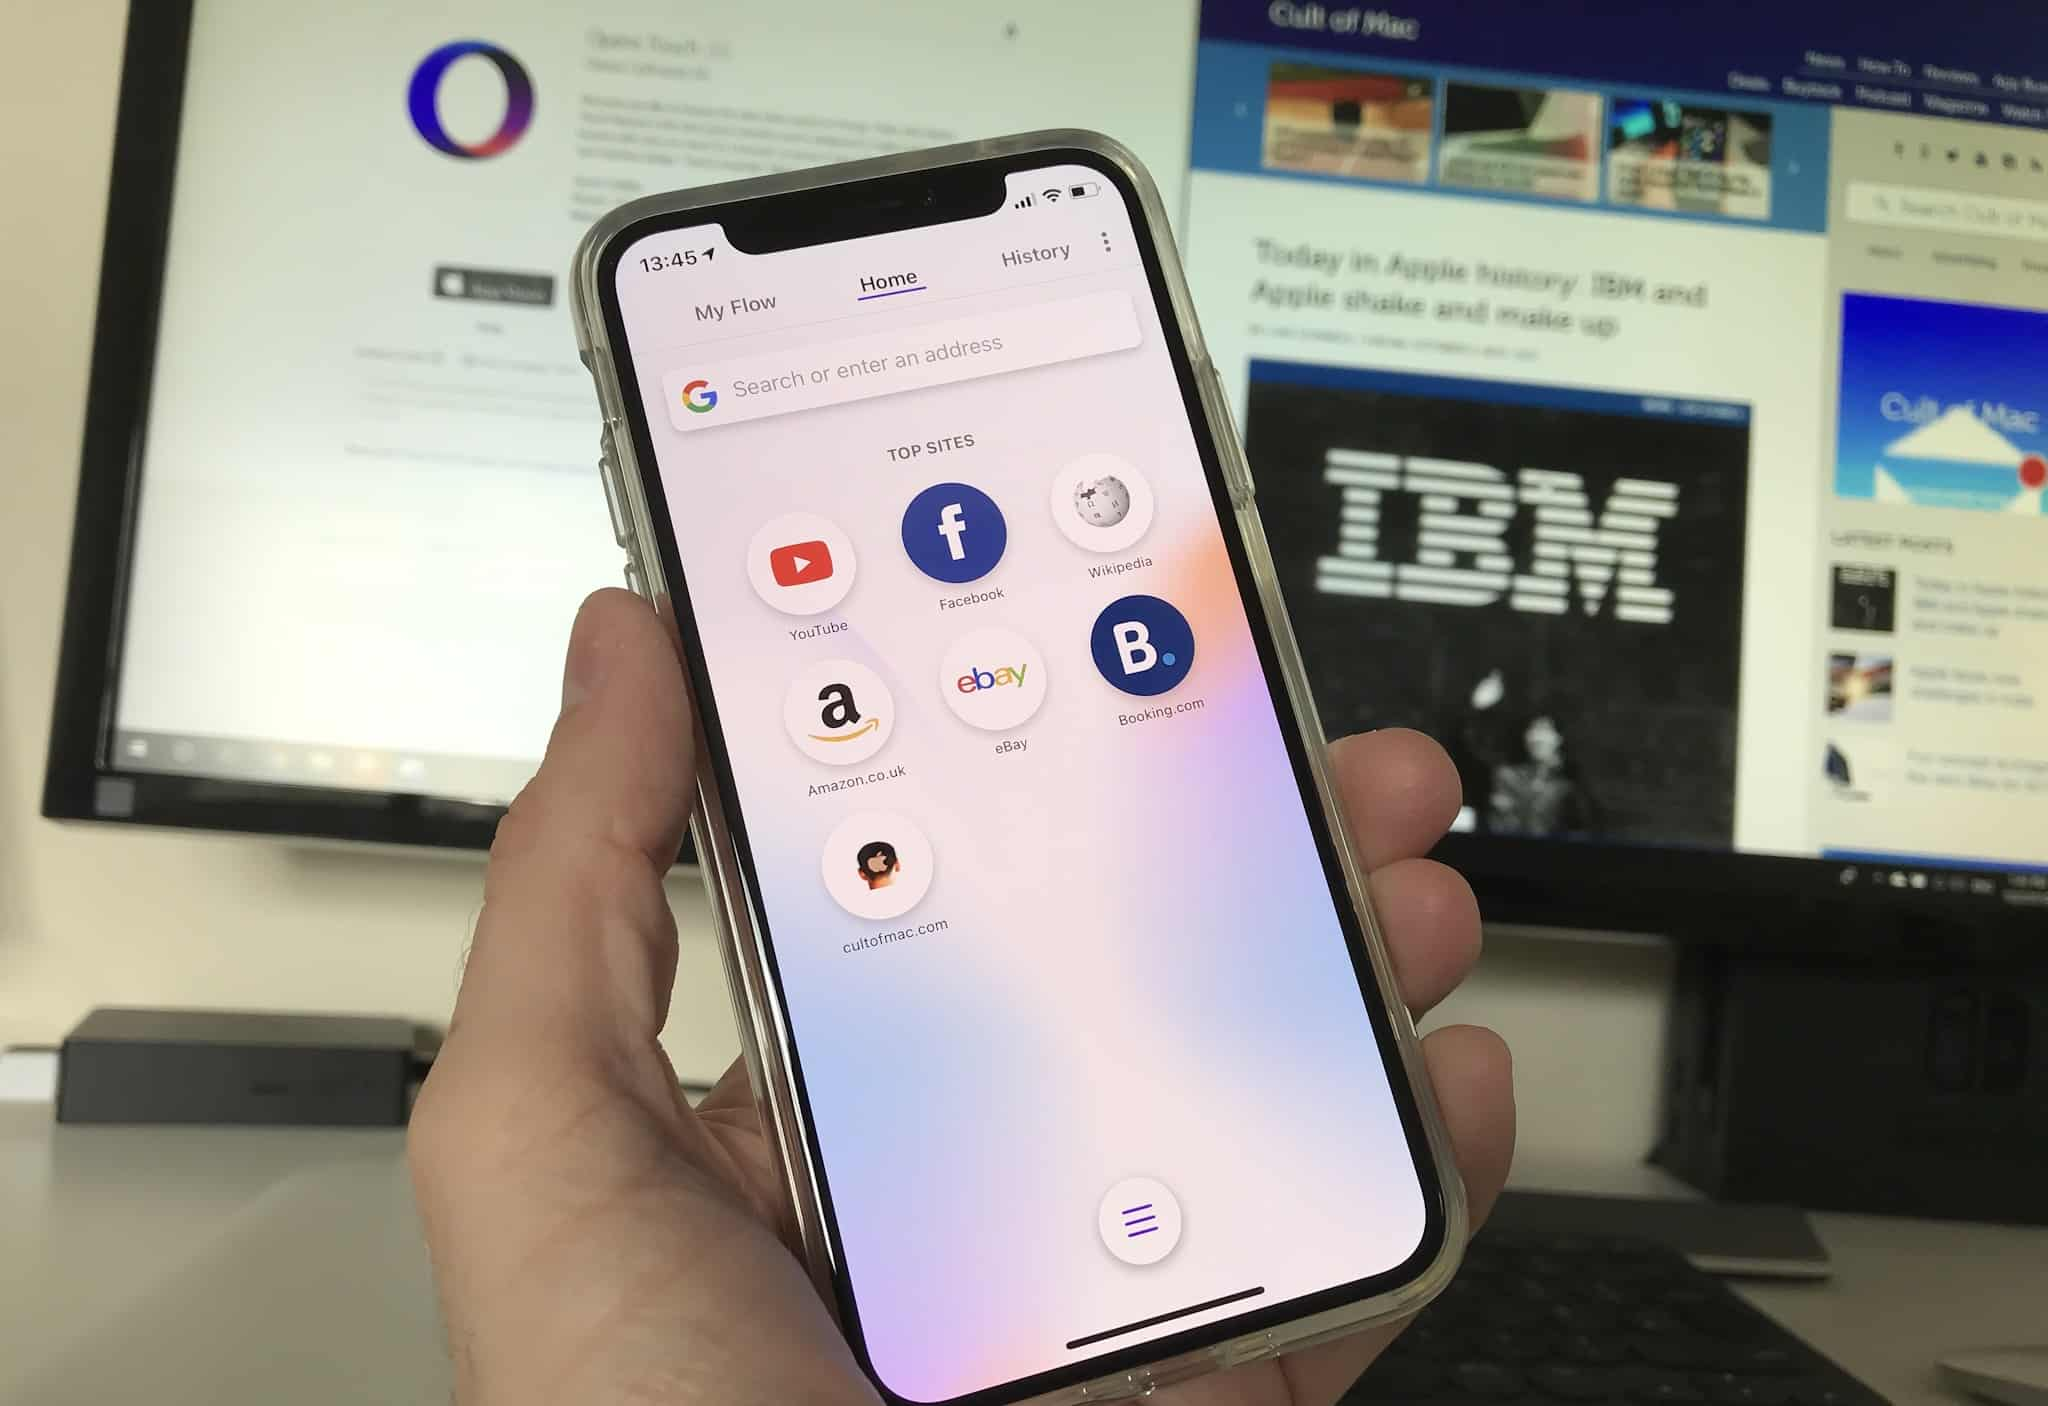Cell Phone: (574, 157, 1457, 1378)
